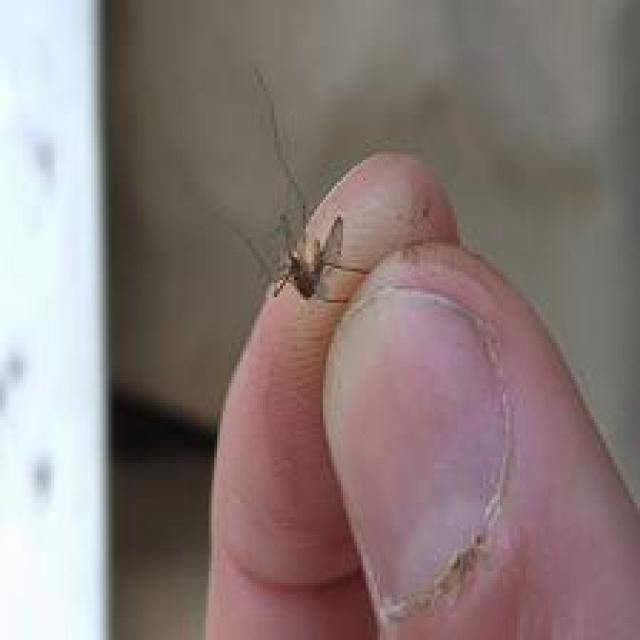Culex: (270, 210, 370, 304)
